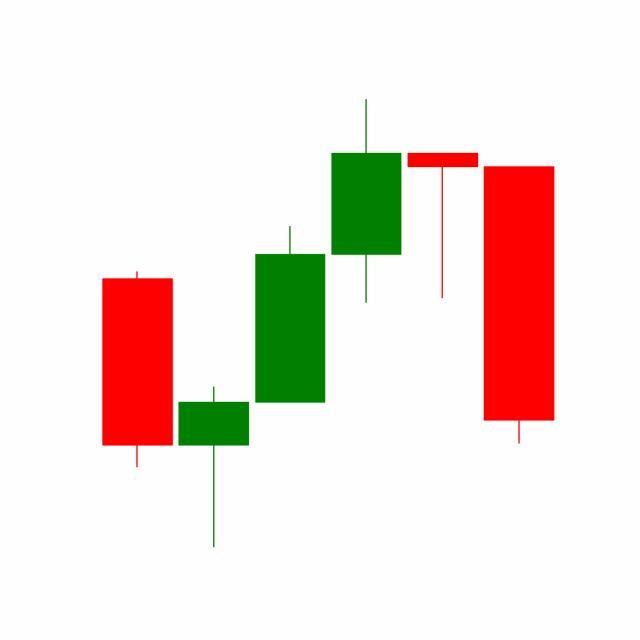Dragonfly Doji: (404, 152, 482, 302)
